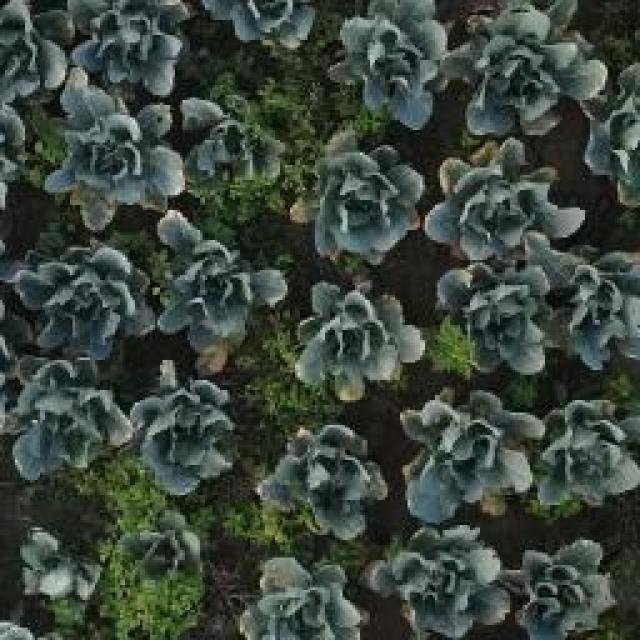cabbage: (40, 85, 184, 217), (149, 214, 283, 355), (457, 0, 588, 138), (429, 140, 579, 260), (2, 356, 130, 484), (295, 280, 424, 403), (335, 0, 452, 133), (430, 258, 554, 380), (13, 239, 146, 351), (299, 136, 419, 260), (407, 399, 530, 515), (126, 377, 238, 501), (263, 425, 387, 537), (538, 401, 638, 515), (392, 534, 508, 630), (554, 252, 640, 374), (67, 0, 180, 92), (240, 560, 368, 640), (181, 91, 277, 190), (518, 548, 614, 637), (8, 520, 104, 605), (122, 520, 212, 582)
